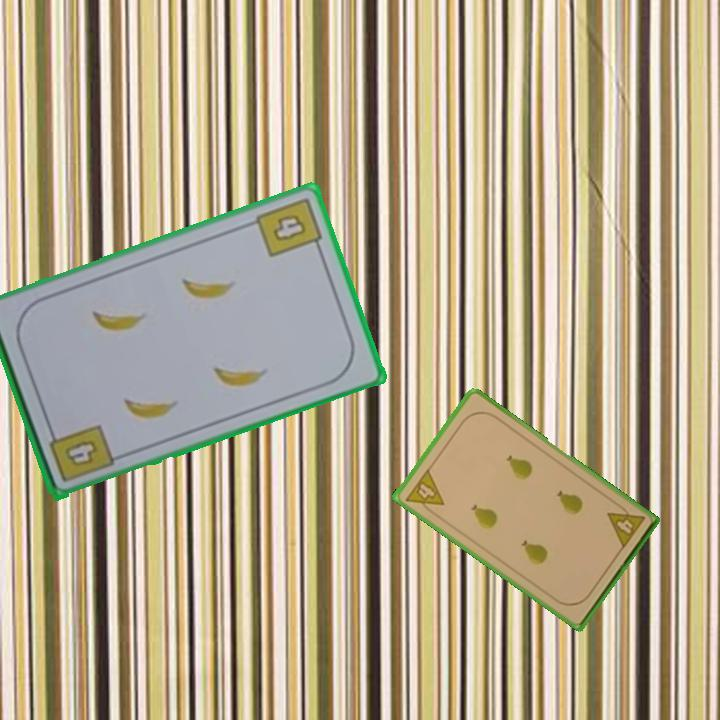4b: (252, 193, 326, 260), (65, 438, 101, 465)
4p: (401, 465, 447, 518), (603, 499, 648, 552)
